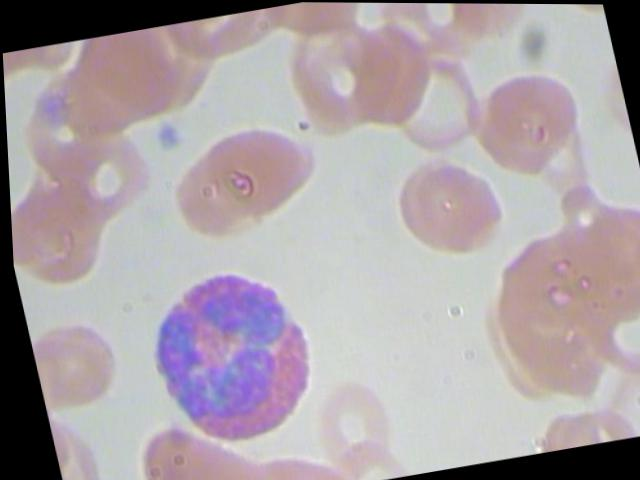Platelets: (143, 115, 187, 157)
Red Blood Cells: (263, 7, 415, 142), (190, 109, 323, 231), (155, 140, 288, 262), (464, 62, 597, 184), (42, 117, 164, 238), (366, 35, 485, 158), (297, 363, 417, 479), (398, 143, 513, 262), (479, 224, 594, 343), (7, 178, 116, 299), (70, 24, 190, 127), (547, 189, 639, 314), (23, 306, 129, 414), (116, 407, 269, 479), (565, 261, 639, 392), (383, 148, 467, 260), (378, 2, 491, 69), (436, 3, 548, 59)
White Blood Cells: (121, 248, 338, 459)
